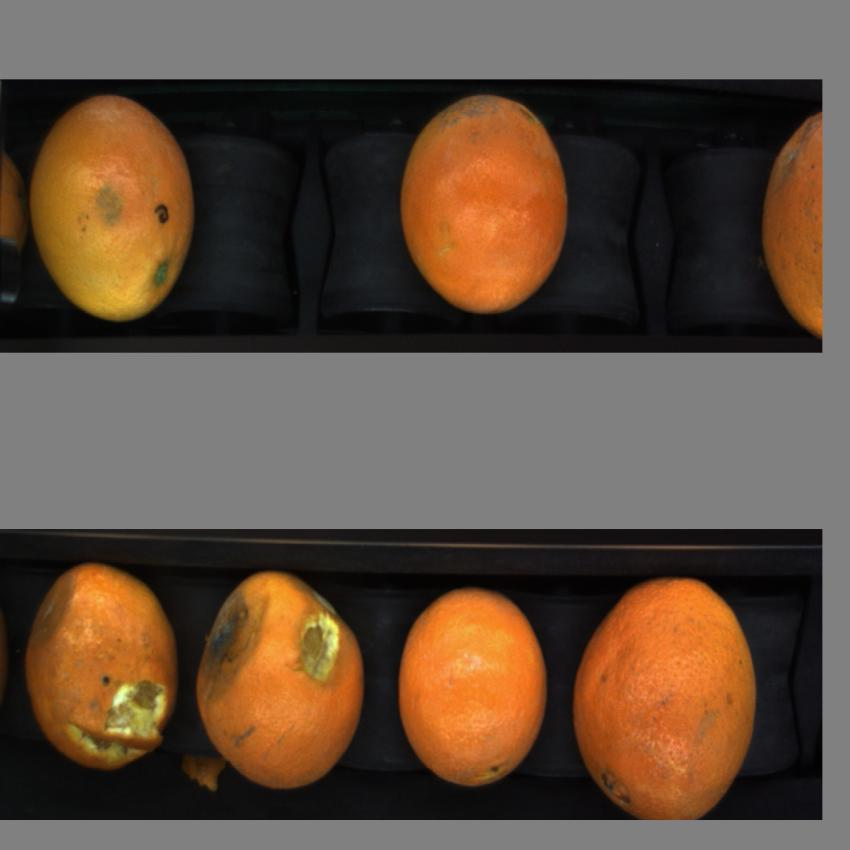Buen estado: (572, 573, 766, 821), (25, 92, 209, 327), (396, 87, 576, 317), (393, 586, 554, 790), (760, 106, 826, 341)
Mal estado: (192, 569, 366, 795), (20, 557, 173, 782)
